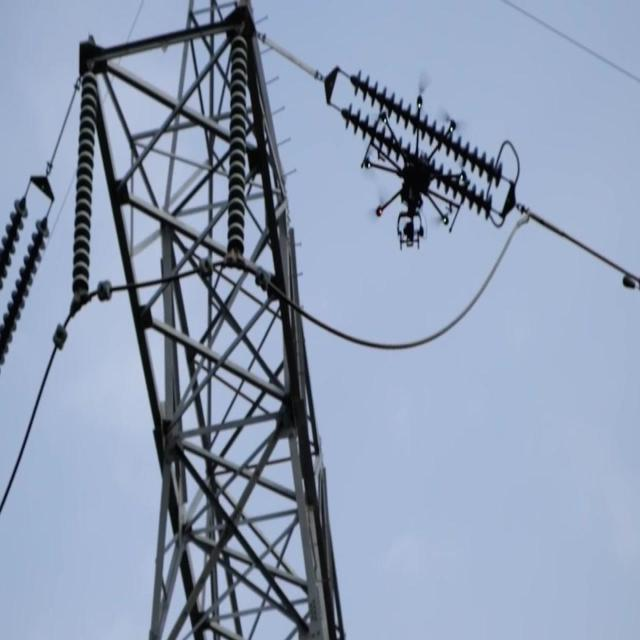drone: (368, 93, 470, 251)
